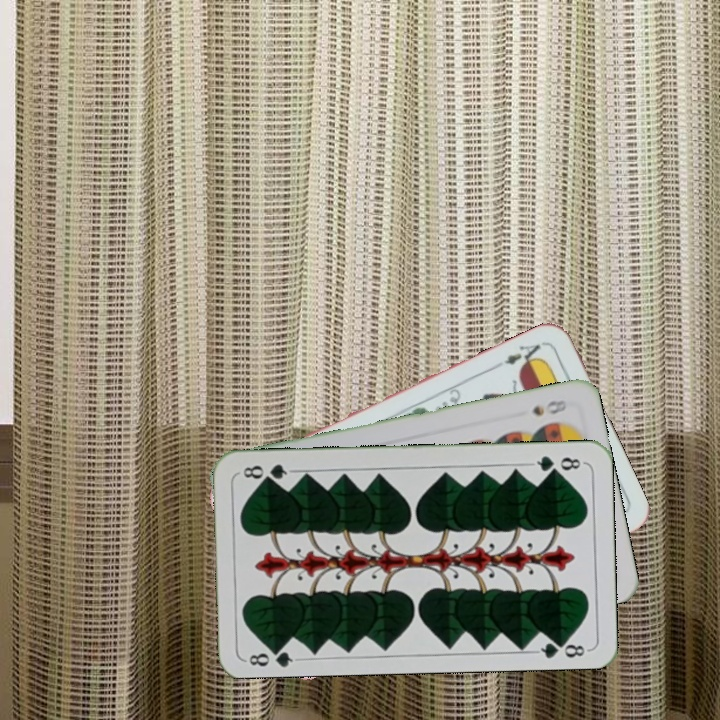EA: (500, 338, 547, 371)
G8: (242, 641, 301, 669), (527, 451, 586, 475)
S8: (528, 396, 569, 419)
